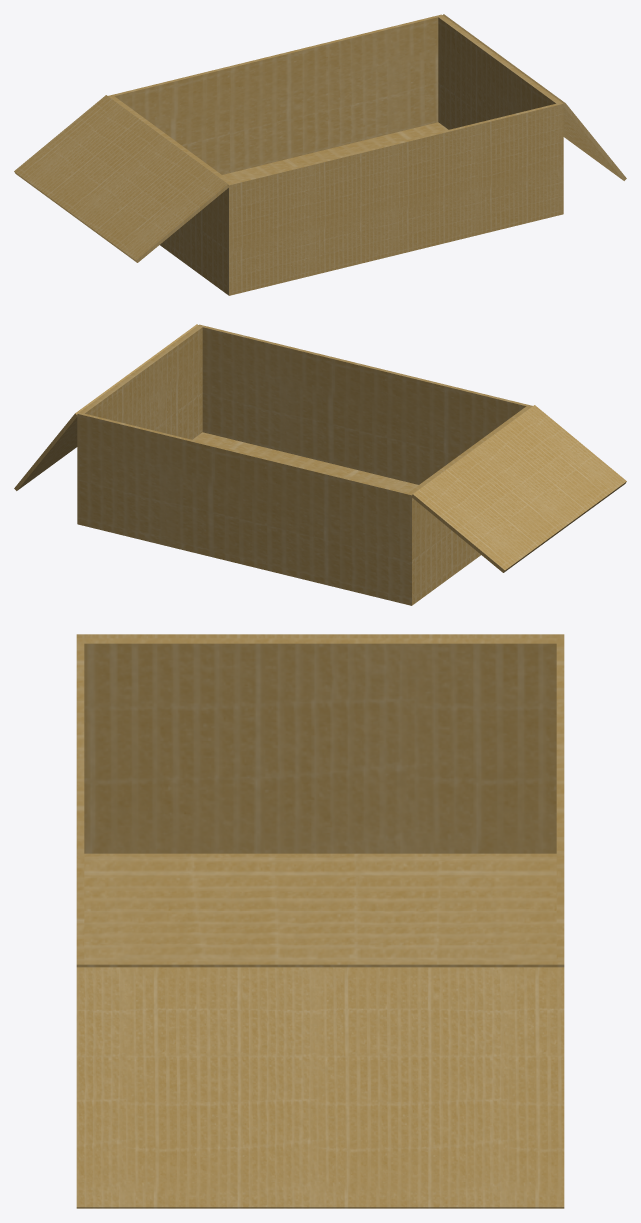
File: Cardboard_C.fbx
3 views of the same model, one above another, from view 1: azimuth 30°, elevation 25°; view 2: azimuth 150°, elevation 25°; view 3: azimuth 270°, elevation 25° (orthographic). The views are drawn at different scales.
Visible parts, largest first — view 1: Cardboard_Ctype; view 2: Cardboard_Ctype; view 3: Cardboard_Ctype.
Boxes of the visible parts, x1,y1,x2,y2 form: Cardboard_Ctype: (14,14,626,295); Cardboard_Ctype: (14,324,626,605); Cardboard_Ctype: (76,634,564,1208).
Size of the model in its own units: 465 by 101 by 200.
